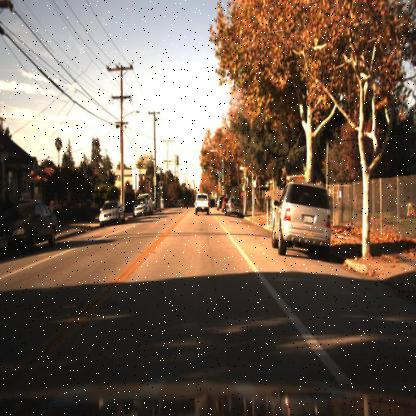car: (268, 178, 333, 260), (0, 199, 60, 260), (96, 197, 124, 229), (223, 196, 247, 220), (193, 190, 212, 218), (132, 199, 150, 222)
